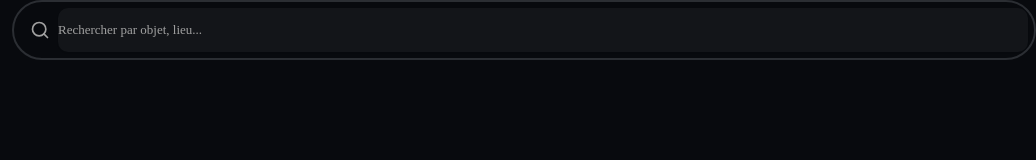
which search bars carry the assistant › says what Enter does, and only once it is a phrase
Type "carte" into the search field at (543, 30), box x1=58 y1=8 x2=1028 y2=52
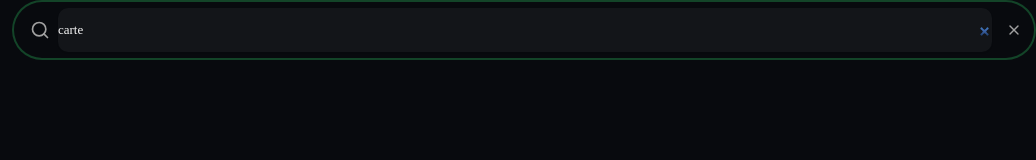
Replace the text in the search field with "j'ai perdu ma carte d'identité à Cocody mardi" at (525, 30), box x1=58 y1=8 x2=992 y2=52
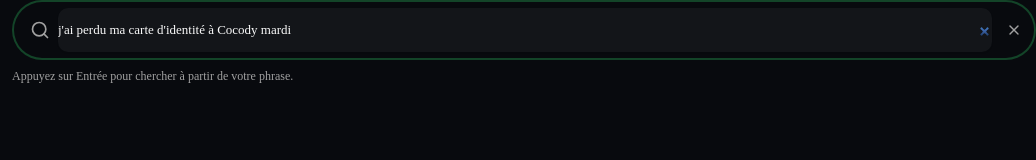
Result: the text "Appuyez sur Entrée pour chercher à partir de votre phrase." is shown at x1=12 y1=69 x2=293 y2=83
